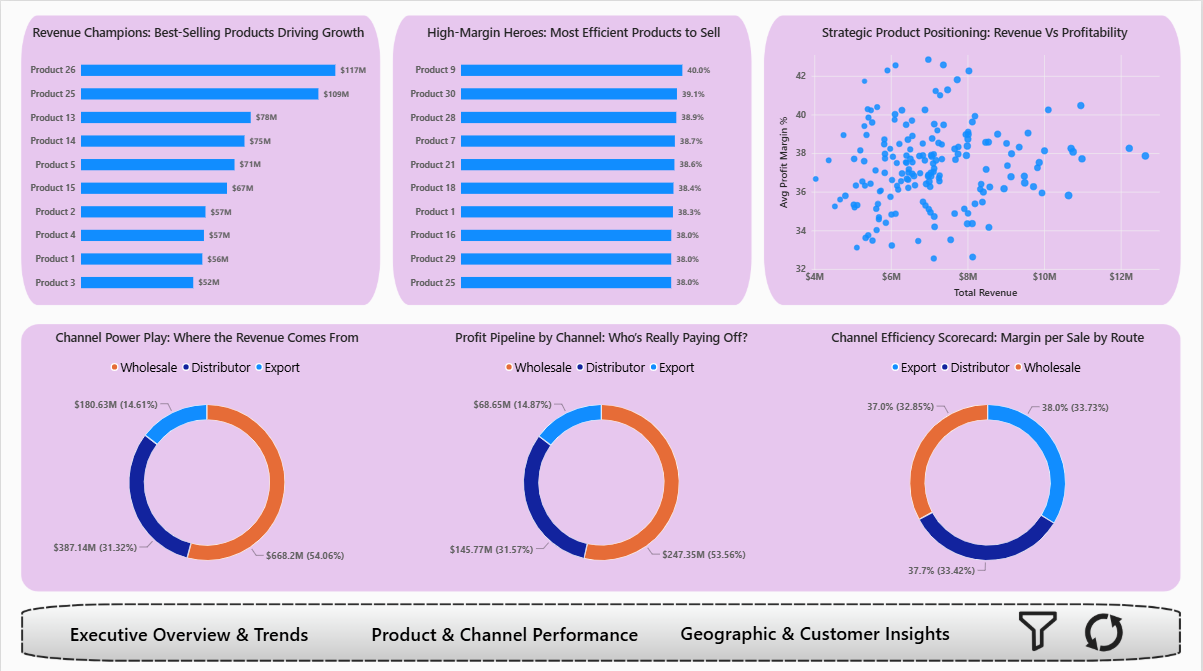

This screenshot's page, from the dashboard's own definition file:
{"tool":"powerbi","page":{"name":"Product & Channel Performance","canvas":[1920,1080],"ordinal":2},"visuals":[{"type":"actionButton","box":[81.8,967.3,438.2,85.5],"z":0},{"type":"actionButton","box":[576.4,967.3,460,85.5],"z":1000},{"type":"actionButton","box":[1070.9,967.3,465.5,85.5],"z":2000},{"type":"actionButton","box":[1618,968,80,82],"z":3000},{"type":"actionButton","box":[1724,970,82,82],"z":4000},{"type":"barChart","title":"Revenue Champions: Best-Selling Products Driving Growth","fields":{"Category":["final.product_name"],"Y":["custom measures.Total Revenue"]},"box":[30.9,21.8,570.9,469.1],"z":5000},{"type":"barChart","title":"High-Margin Heroes: Most Efficient Products to Sell","fields":{"Category":["final.product_name"],"Y":["custom measures.Profit Margin %"]},"box":[638.2,21.8,556.4,469.1],"z":6000},{"type":"scatterChart","title":"Strategic Product Positioning: Revenue Vs Profitability","fields":{"Size":["Sum(customer summary.Order Count)"],"X":["customer summary.Total Revenue"],"Y":["customer summary.Avg Profit Margin %"]},"box":[1227.3,21.8,660,469.1],"z":7000},{"type":"donutChart","title":"Channel Power Play: Where the Revenue Comes From","fields":{"Category":["final.channel"],"Y":["custom measures.Total Revenue"]},"box":[54.5,509.1,550.9,443.6],"z":8000},{"type":"donutChart","title":"Profit Pipeline by Channel: Who’s Really Paying Off?","fields":{"Category":["final.channel"],"Y":["custom measures.Total Profit"]},"box":[685.5,509.1,549.1,443.6],"z":9000},{"type":"donutChart","title":"Channel Efficiency Scorecard: Margin per Sale by Route","fields":{"Category":["final.channel"],"Y":["custom measures.Profit Margin %"]},"box":[1303.6,509.1,549.1,443.6],"z":10000}]}

Visuals, with their boxes in screenshot pixels (x1, y1, x2, y2), scaled from the page's 1920x1080 canvas onto the 1203x671 screenshot:
actionButton: Rect(51, 601, 326, 654)
actionButton: Rect(361, 601, 649, 654)
actionButton: Rect(671, 601, 963, 654)
actionButton: Rect(1014, 601, 1064, 652)
actionButton: Rect(1080, 603, 1132, 654)
"Revenue Champions: Best-Selling Products Driving Growth" barChart: Rect(19, 14, 377, 305)
"High-Margin Heroes: Most Efficient Products to Sell" barChart: Rect(400, 14, 748, 305)
"Strategic Product Positioning: Revenue Vs Profitability" scatterChart: Rect(769, 14, 1183, 305)
"Channel Power Play: Where the Revenue Comes From" donutChart: Rect(34, 316, 379, 592)
"Profit Pipeline by Channel: Who’s Really Paying Off?" donutChart: Rect(430, 316, 774, 592)
"Channel Efficiency Scorecard: Margin per Sale by Route" donutChart: Rect(817, 316, 1161, 592)
